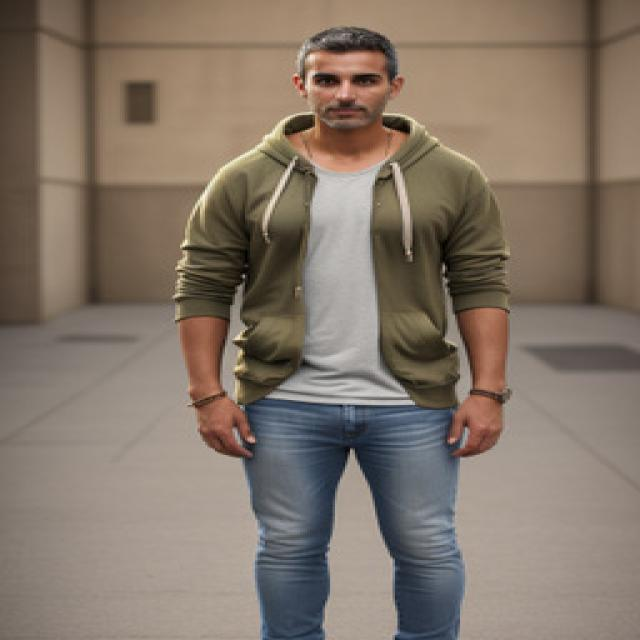Ai human 2: (158, 18, 530, 640)
